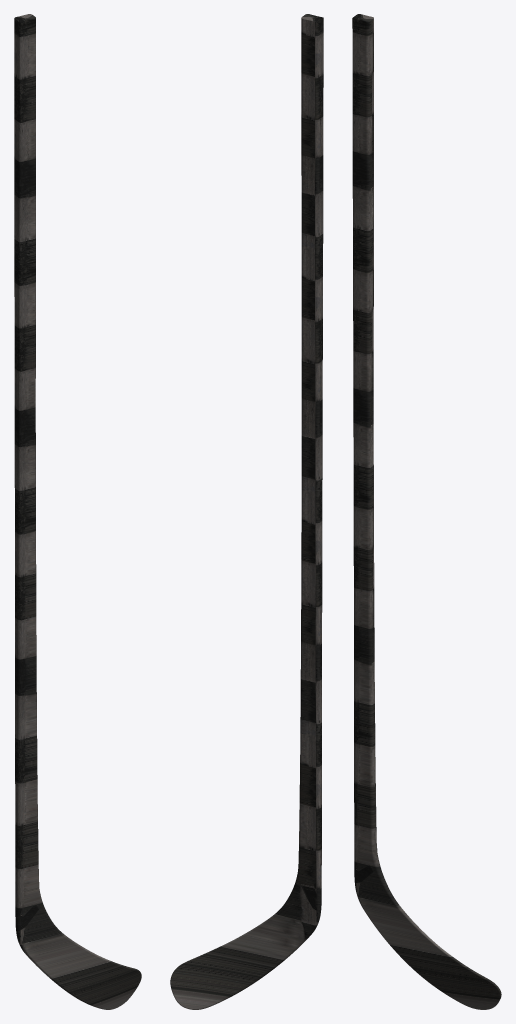
Rendered from P91DN-SBT.glb.
3 renders of one model, left to right at view 1: azimuth 30°, elevation 25°; view 2: azimuth 150°, elevation 25°; view 3: azimuth 330°, elevation 25°, orthographic. The views are drawn at different scales.
Parts seen in each view (by area): view 1: geometry_0; view 2: geometry_0; view 3: geometry_0.
Part boxes in pixels (box(x1,y1,x2,y2)): geometry_0: box(14, 14, 141, 1009); geometry_0: box(170, 14, 323, 1009); geometry_0: box(352, 14, 501, 1009).
Size of the model in its own units: 234 by 1650 by 61.22.
1 material, 1 textured.
